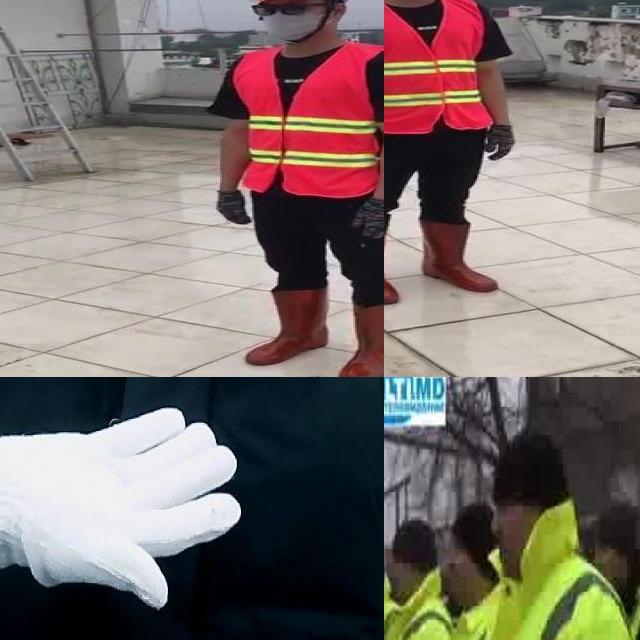BOOTS: (415, 217, 513, 295), (247, 288, 331, 364), (336, 302, 384, 377), (384, 225, 399, 309)
GLASS: (245, 2, 321, 18)
GLOVE: (0, 405, 244, 613), (217, 184, 257, 230), (355, 191, 384, 252), (487, 121, 516, 160)
VEST: (447, 499, 640, 640), (231, 51, 384, 195), (384, 0, 493, 133)
